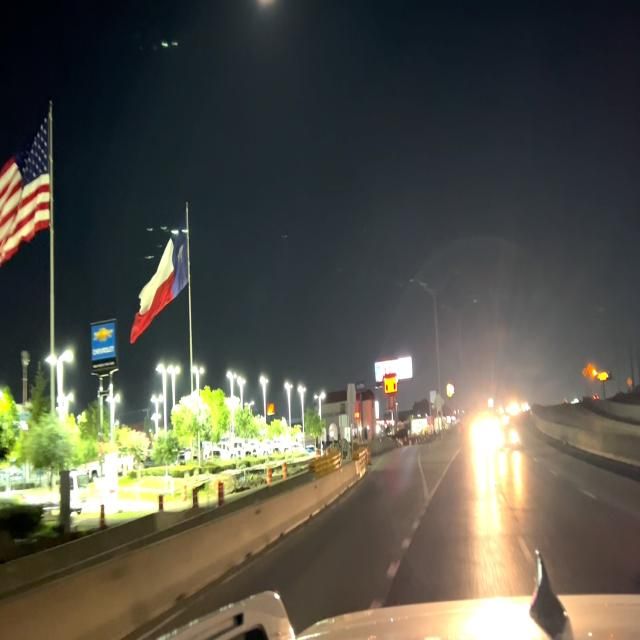back-of-sign: (348, 381, 357, 433)
